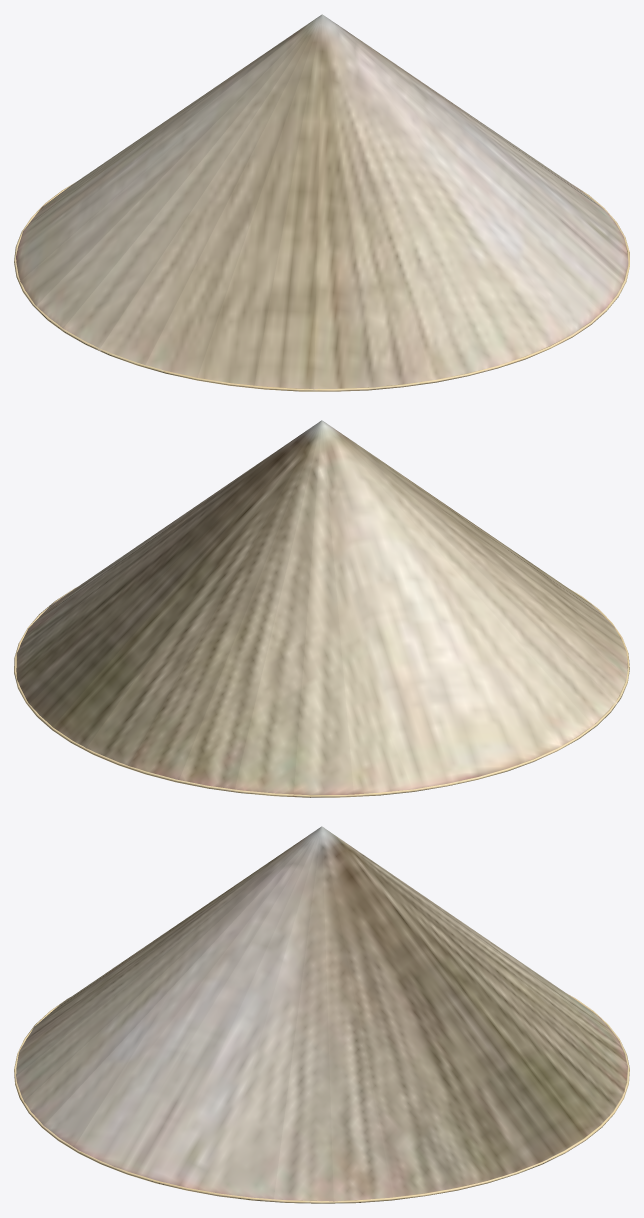
Rendered from non-la.glb.
3 views of the same model, one above another, from view 1: azimuth 30°, elevation 25°; view 2: azimuth 150°, elevation 25°; view 3: azimuth 270°, elevation 25° (orthographic).
Parts seen in each view (by area): view 1: Cone, Torus.003; view 2: Cone, Torus.003; view 3: Cone, Torus.003.
Boxes of the visible parts, left/top/right/bottom form: Cone: left=16, top=14, right=628, bottom=390; Torus.003: left=14, top=183, right=629, bottom=391; Cone: left=16, top=420, right=627, bottom=796; Torus.003: left=14, top=587, right=629, bottom=797; Cone: left=14, top=826, right=627, bottom=1201; Torus.003: left=14, top=994, right=629, bottom=1203.
Size of the model in its own units: 0.9989 by 0.444 by 0.9997.
Materials: 3 (3 with a texture image).
